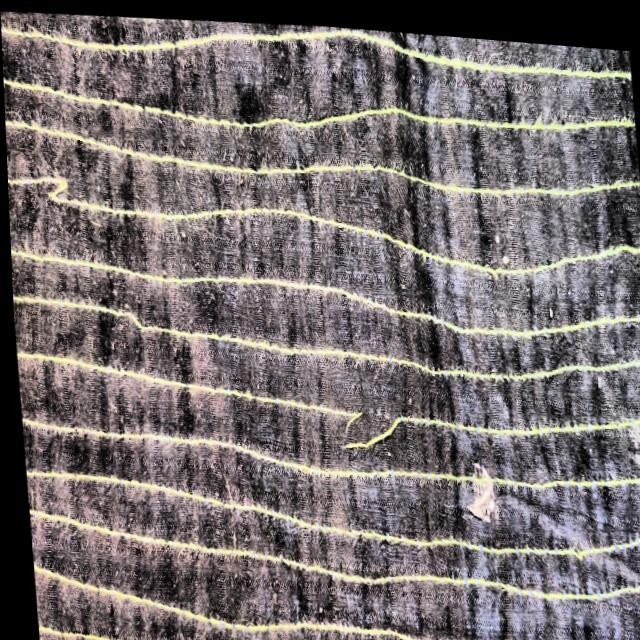Stitch: (325, 366, 407, 464), (31, 157, 90, 223)
